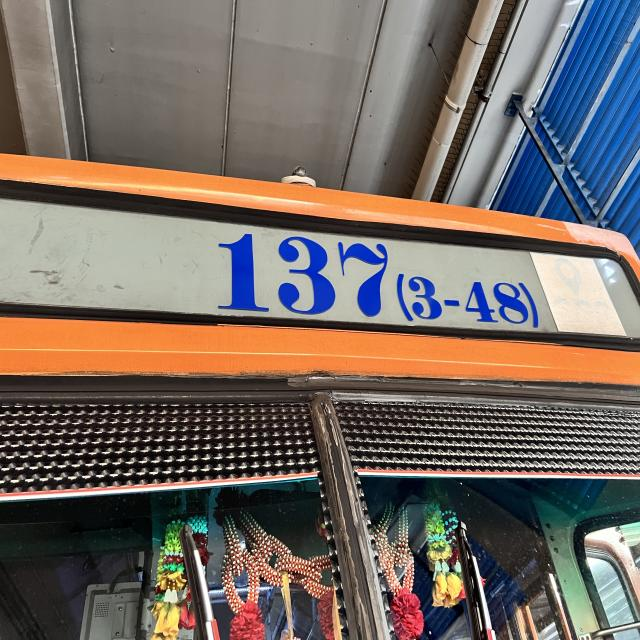BMTA-bus: (0, 158, 640, 640)
Bus-Line-Number: (207, 224, 544, 338)
